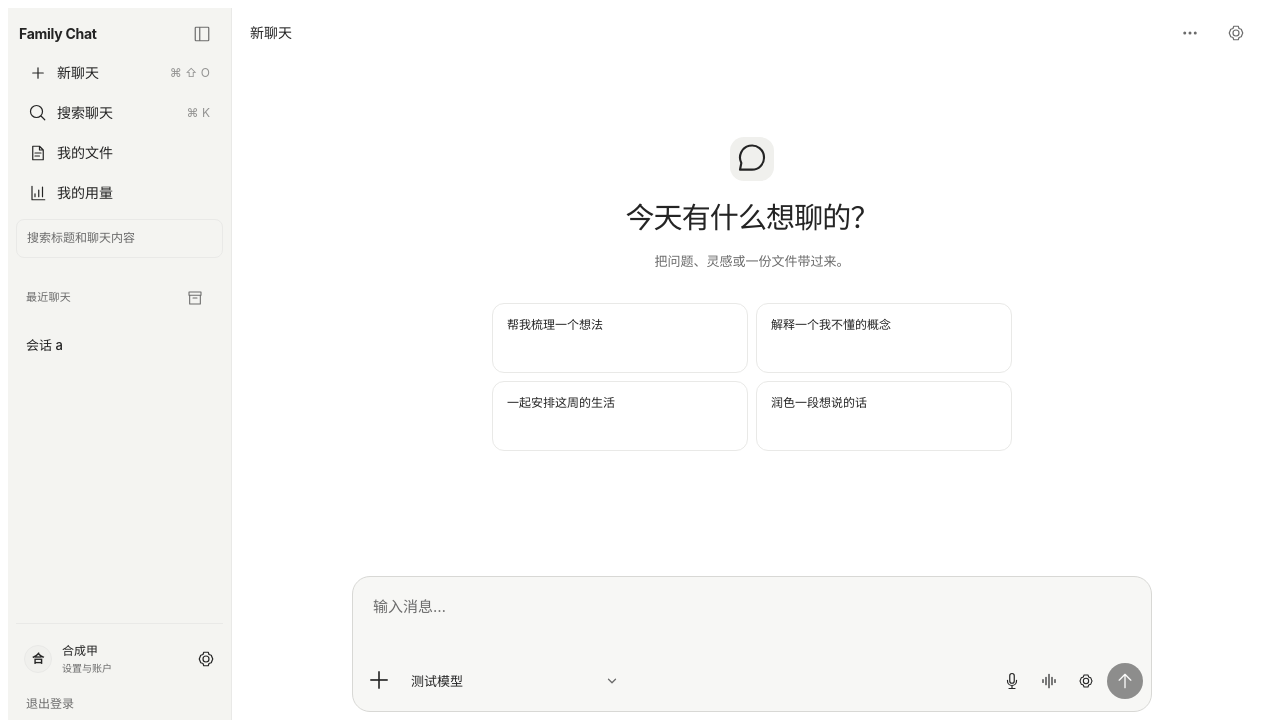
Test case: pins and archived restores use explicit owner-scoped mutations without generating chat replies
Click the button "会话 a": (120, 345) [16,328,223,362]
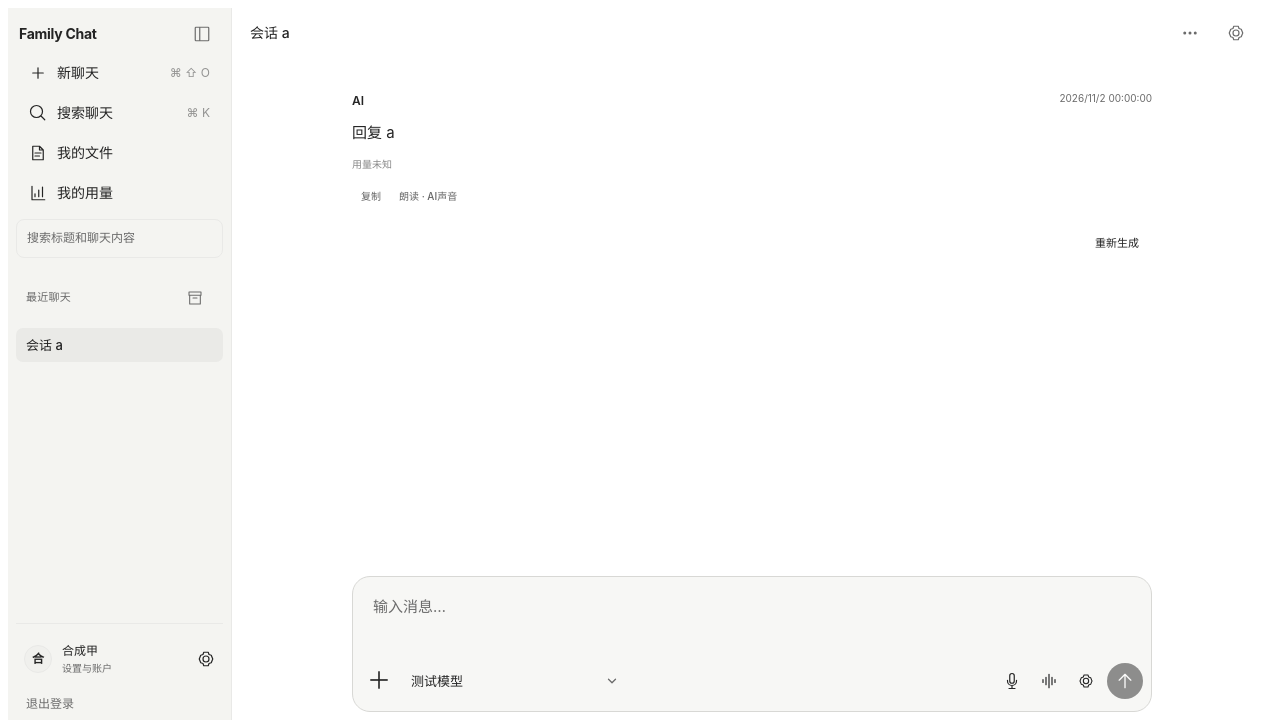
Expected: the text box named "发送消息" is enabled, [361,585,1143,653]
Click the heading named "对话操作": (1190, 33) [1181,24,1199,42]
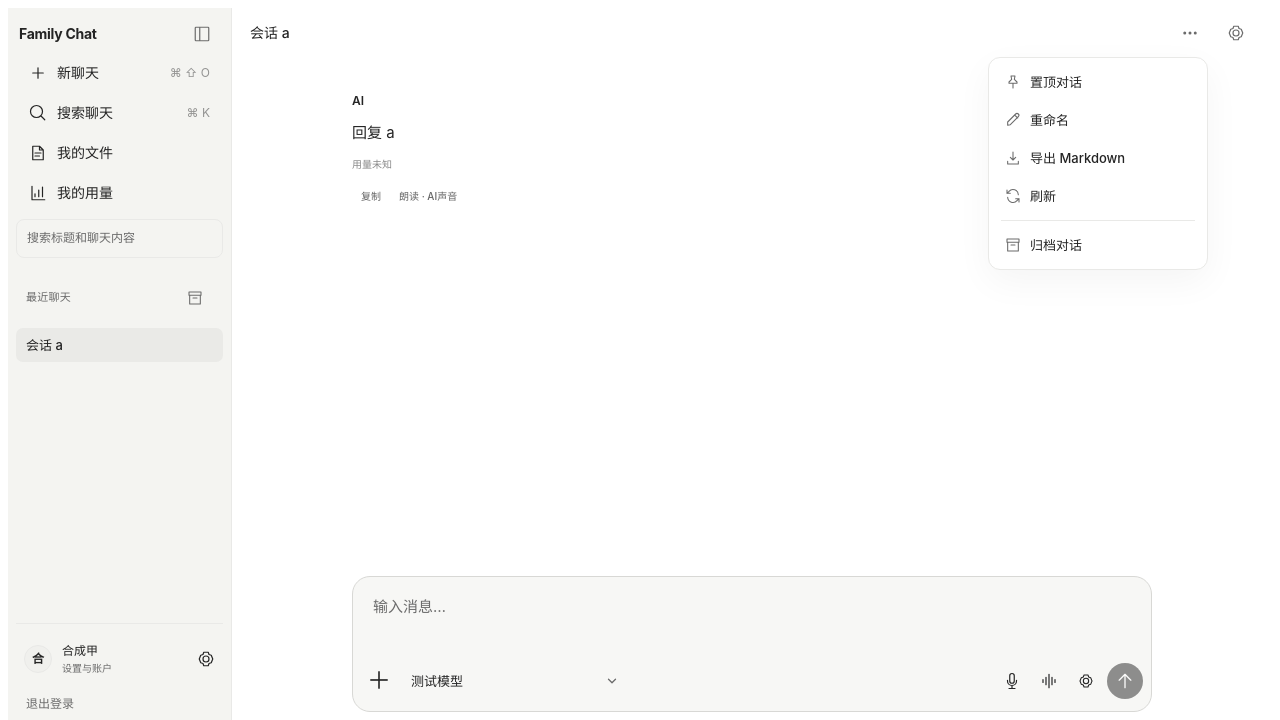
Click the button "置顶对话": (1098, 82) [995,64,1201,100]
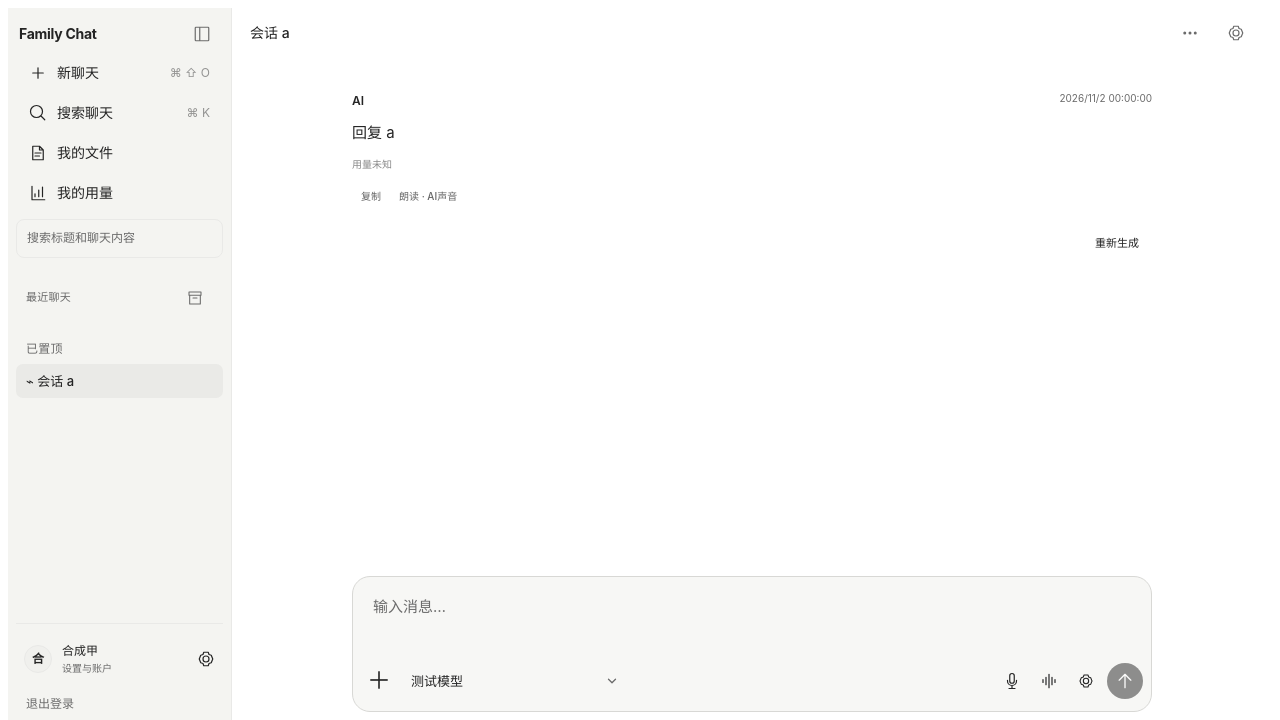
Result: the text "已置顶" is shown at [26,341,63,356]
Click the button named "查看归档": (195, 298) [177,280,213,316]
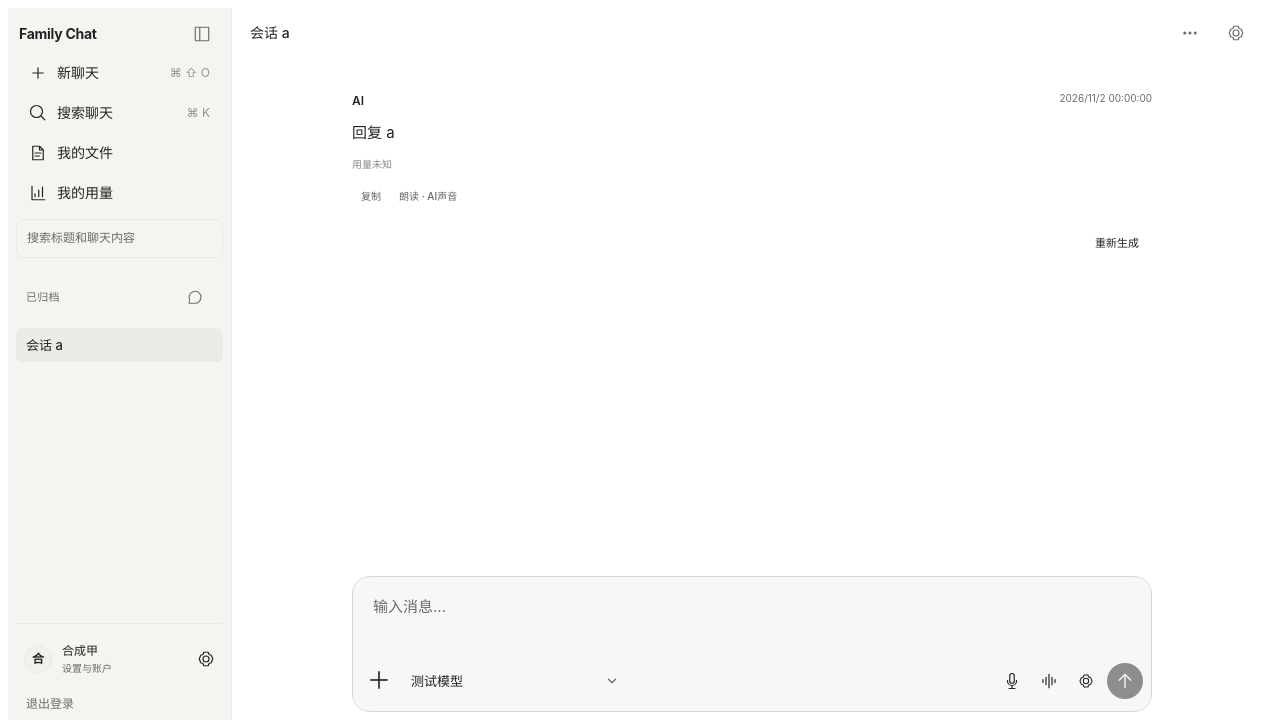
Click the button "会话 a": (120, 345) [16,328,223,362]
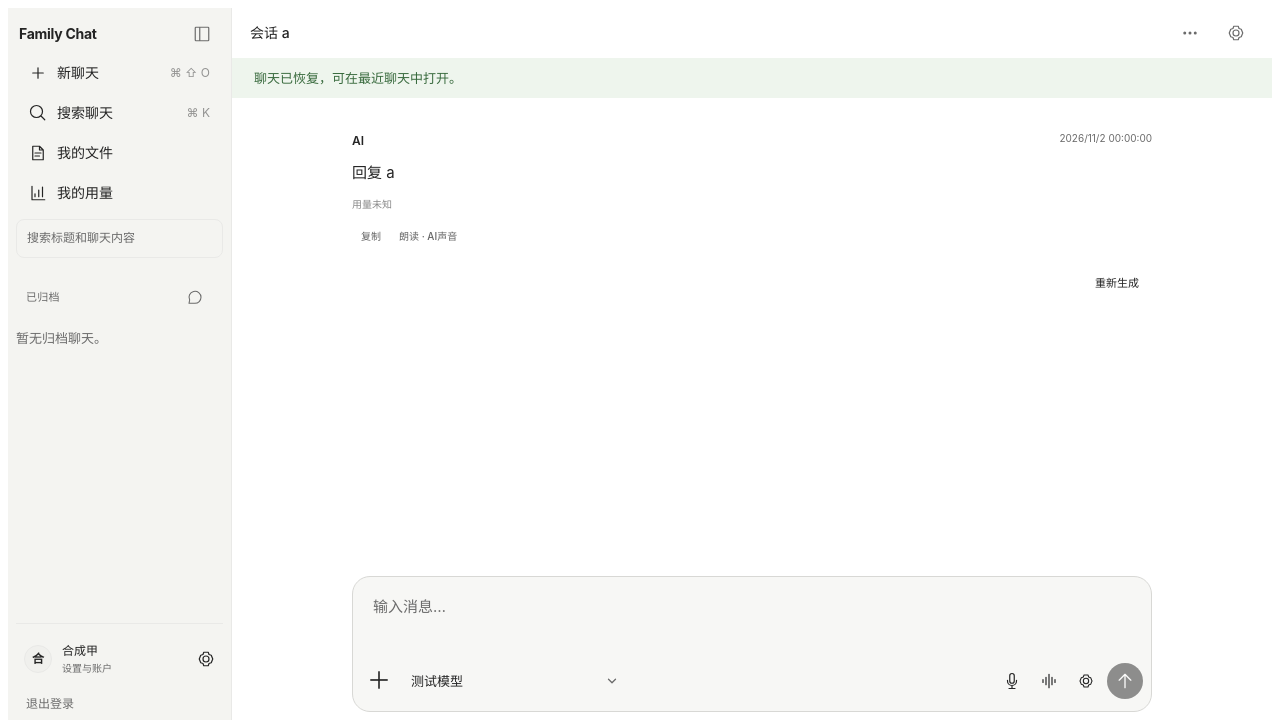
Result: the text "聊天已恢复，可在最近聊天中打开。" is shown at [232,58,1272,98]
